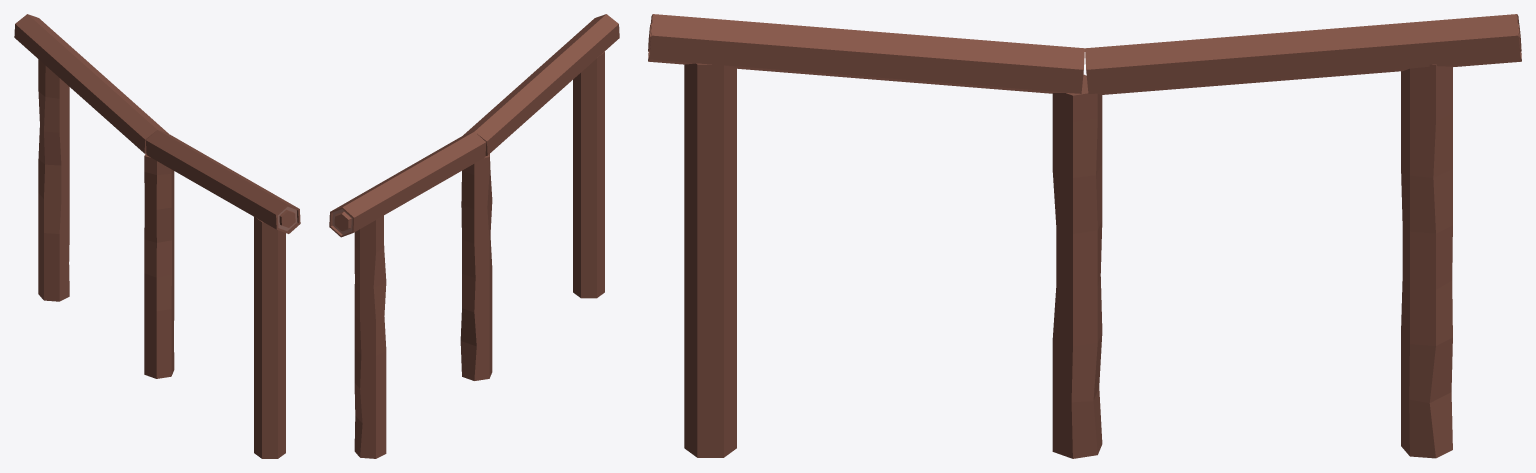
The model's file is Post.fbx.
3 renders of one model, left to right at view 1: azimuth 30°, elevation 25°; view 2: azimuth 150°, elevation 25°; view 3: azimuth 270°, elevation 25°, orthographic. The views are drawn at different scales.
Parts seen in each view (by area): view 1: Post; view 2: Post; view 3: Post.
Part boxes in pixels (left/top/right/bottom): Post: left=14, top=14, right=300, bottom=458; Post: left=329, top=14, right=619, bottom=458; Post: left=648, top=14, right=1521, bottom=458.
Size of the model in its own units: 85.68 by 773 by 1409.
